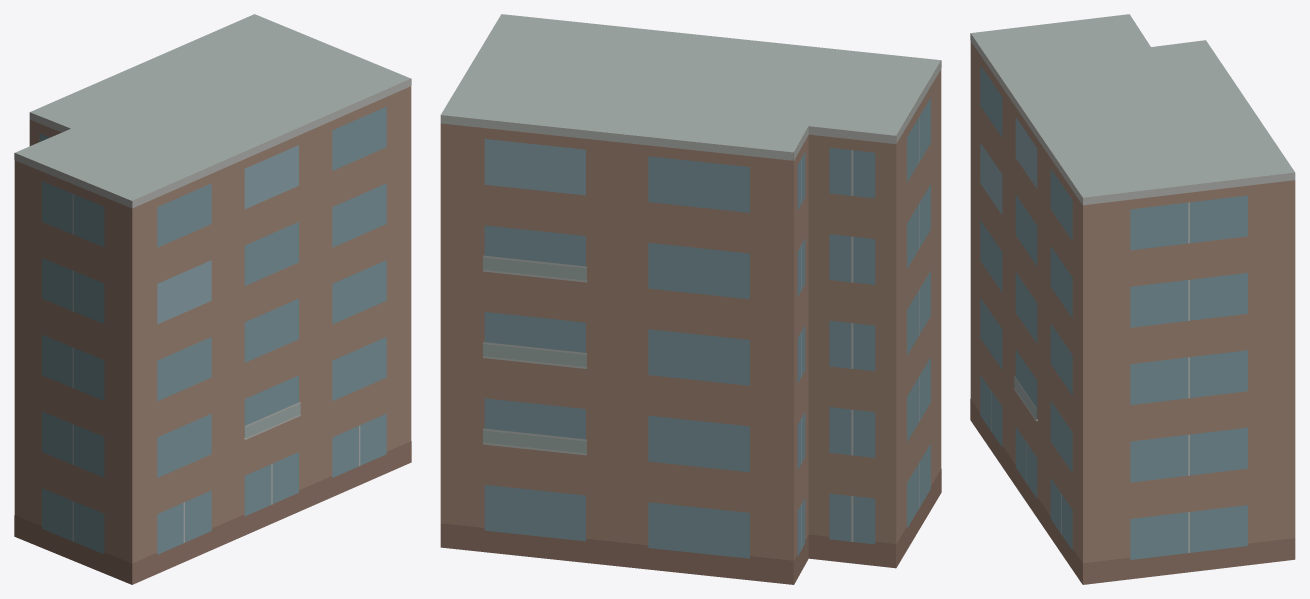
The model's file is survey-upis-32729273.glb.
The picture shows the model from 3 angles, left to right: view 1: azimuth 30°, elevation 25°; view 2: azimuth 150°, elevation 25°; view 3: azimuth 270°, elevation 25°; orthographic projection. The views are drawn at different scales.
Visible parts, largest first — view 1: survey-upis-32729273.tmp; view 2: survey-upis-32729273.tmp; view 3: survey-upis-32729273.tmp.
Part boxes in pixels (x1,y1,x2,y2): survey-upis-32729273.tmp: [14, 14, 411, 584]; survey-upis-32729273.tmp: [440, 14, 941, 584]; survey-upis-32729273.tmp: [970, 14, 1295, 584].
Bounding box in the file's own units: 12.85 × 12.6 × 9.59.
